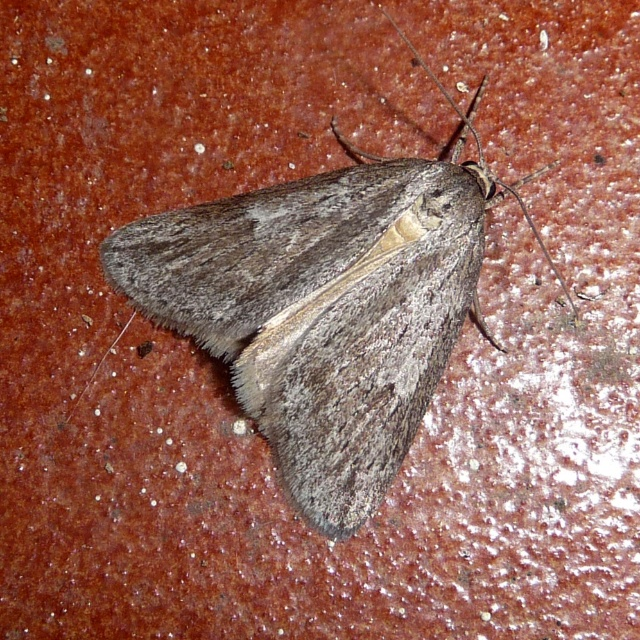Moths and butterflies: (94, 9, 583, 541)
